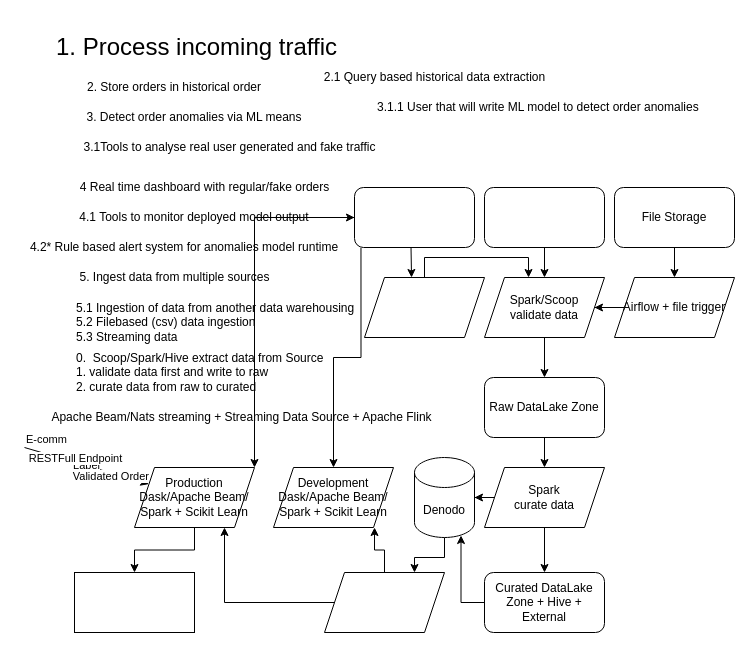
Some shapes in this 752 by 650 pixel diagram are drawn without their labels. Each missing label, with the centre of its shape:
"Batch Aggregator n=1000 | t=5m" belongs at pixel 424 307.
"MatPlot + Dashboard" belongs at pixel 134 602.
"Presto/Query Engine" belongs at pixel 384 602.
"RDBMS Storage" belongs at pixel 544 217.
"Streaming Data Source" belongs at pixel 414 217.
